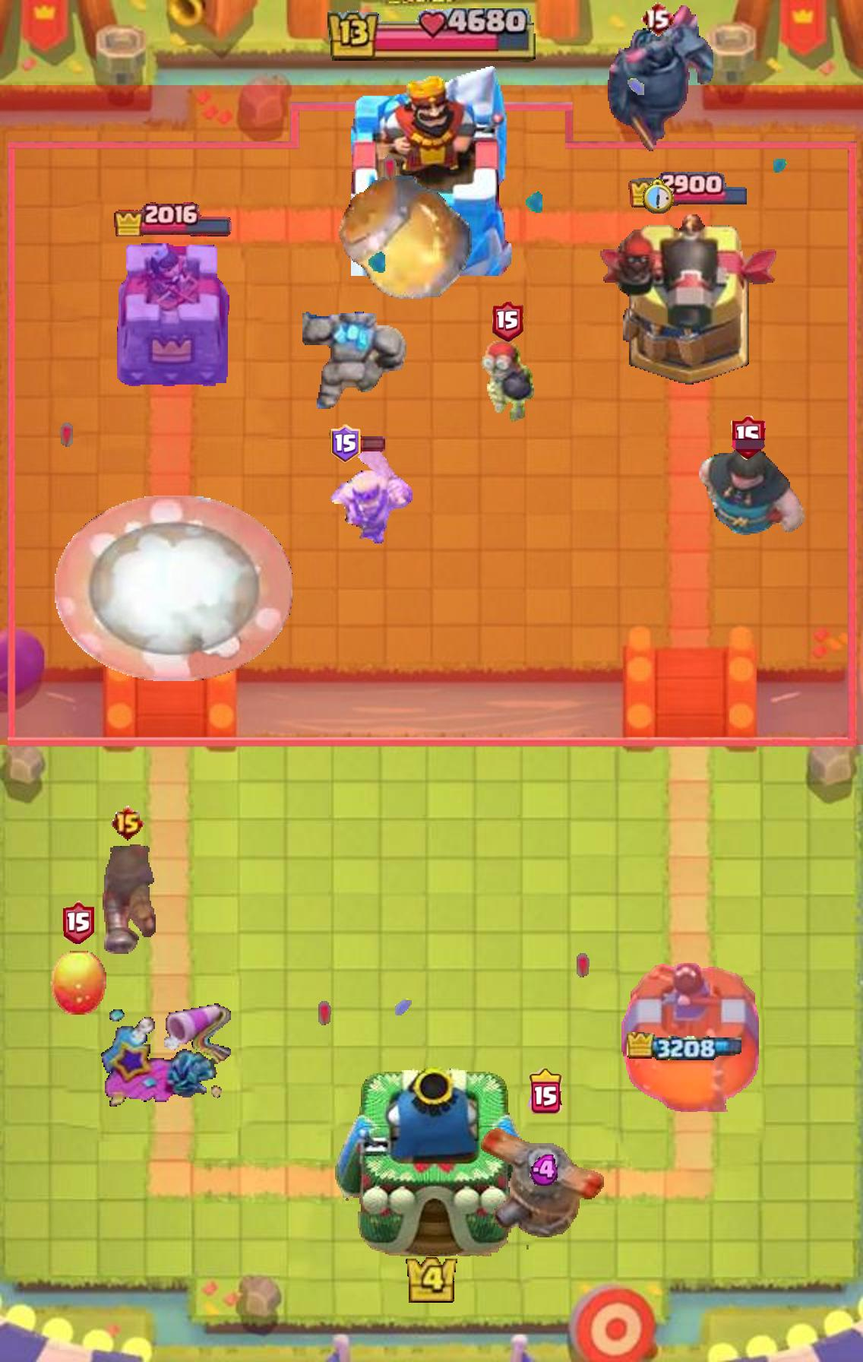bar: (357, 436, 386, 452)
bar-level: (528, 1068, 563, 1115), (731, 416, 766, 460), (62, 901, 94, 945), (329, 424, 361, 464), (110, 805, 145, 841), (492, 302, 523, 342), (640, 0, 674, 36)
